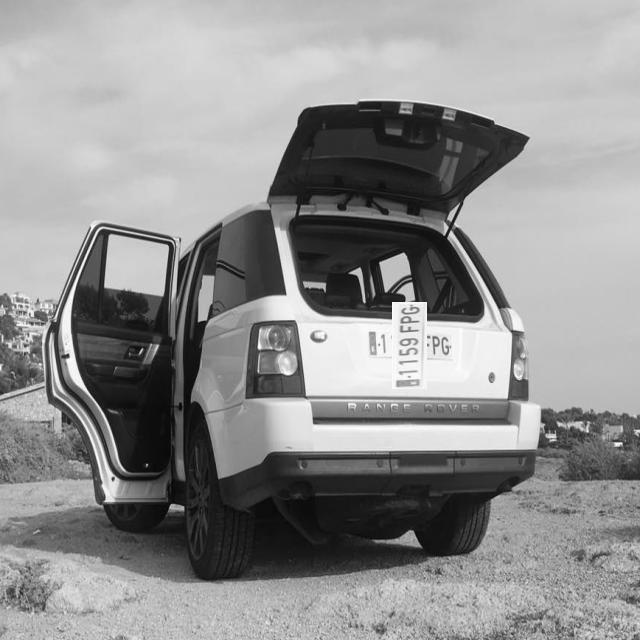License-Plate: (380, 315, 440, 376)
